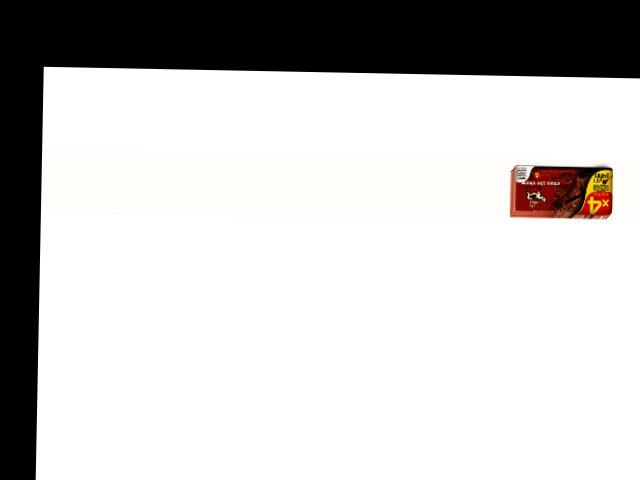chocolate: (511, 162, 614, 218)
